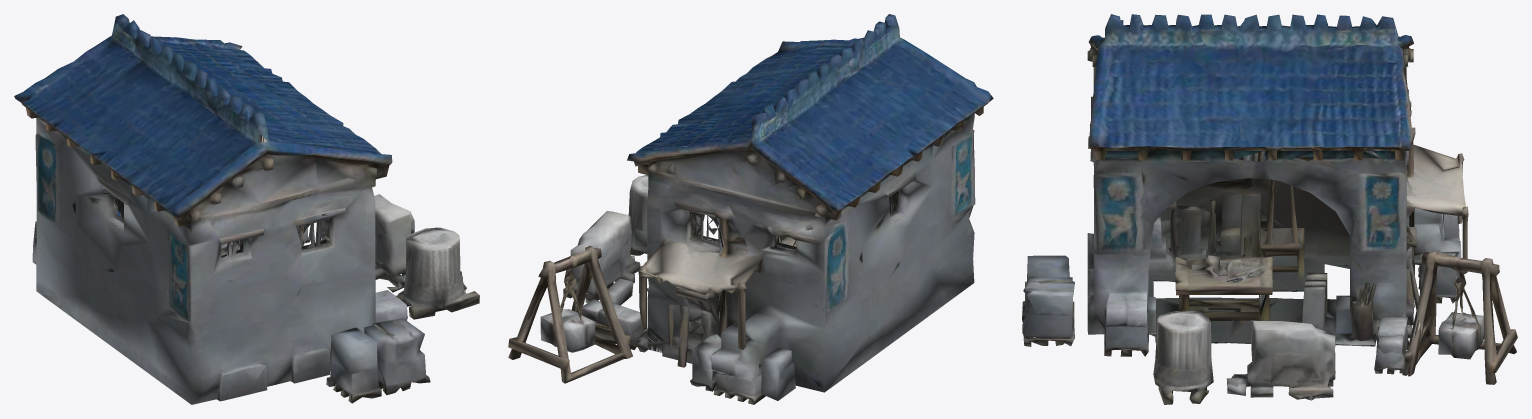
File: masonry_0.glb
The picture shows the model from 3 angles, left to right: view 1: azimuth 30°, elevation 25°; view 2: azimuth 150°, elevation 25°; view 3: azimuth 270°, elevation 25°; orthographic projection. The views are drawn at different scales.
Visible parts, largest first — view 1: tripo_node_1be93519-5f25-4d6c-84d2-093557c07409; view 2: tripo_node_1be93519-5f25-4d6c-84d2-093557c07409; view 3: tripo_node_1be93519-5f25-4d6c-84d2-093557c07409.
Boxes of the visible parts, x1=… form: tripo_node_1be93519-5f25-4d6c-84d2-093557c07409: x1=14, y1=14, x2=479, y2=404; tripo_node_1be93519-5f25-4d6c-84d2-093557c07409: x1=508, y1=14, x2=993, y2=404; tripo_node_1be93519-5f25-4d6c-84d2-093557c07409: x1=1022, y1=14, x2=1517, y2=404.
Size of the model in its own units: 0.7881 by 0.5882 by 0.9805.
1 material, 1 textured.
